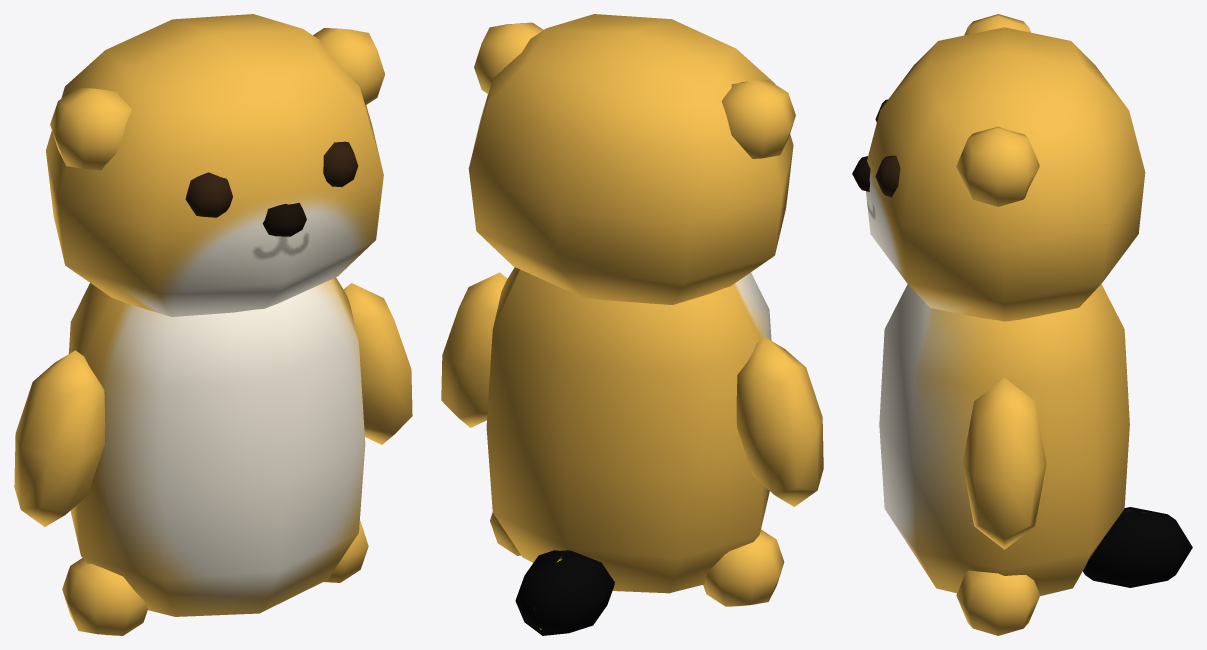
Rendered from character.glb.
3 views of the same model, side by side, from view 1: azimuth 30°, elevation 25°; view 2: azimuth 150°, elevation 25°; view 3: azimuth 270°, elevation 25° (orthographic). The views are drawn at different scales.
Parts seen in each view (by area): view 1: body, head, left-arm, right-arm, left-ear, left-leg, right-ear, left-eye, right-eye, nose, right-leg; view 2: body, head, left-arm, tail, right-arm, left-ear, left-leg, right-ear; view 3: head, body, right-arm, tail, right-ear, right-leg, left-ear, right-eye.
Part boxes in pixels (<box>): body: <box>68,277,365,616</box>; head: <box>46,14,383,316</box>; left-arm: <box>14,350,105,526</box>; right-arm: <box>343,283,412,444</box>; left-ear: <box>50,88,131,170</box>; left-leg: <box>62,558,147,635</box>; right-ear: <box>313,28,384,105</box>; left-eye: <box>185,172,232,217</box>; right-eye: <box>323,141,358,187</box>; nose: <box>262,202,306,236</box>; right-leg: <box>324,520,368,582</box>; body: <box>486,267,771,593</box>; head: <box>468,14,793,304</box>; left-arm: <box>736,337,823,506</box>; tail: <box>515,550,614,635</box>; right-arm: <box>441,272,507,427</box>; left-ear: <box>721,80,795,158</box>; left-leg: <box>703,529,784,606</box>; right-ear: <box>474,22,543,93</box>; head: <box>866,27,1145,321</box>; body: <box>879,284,1129,595</box>; right-arm: <box>962,378,1046,549</box>; tail: <box>1083,507,1192,587</box>; right-ear: <box>956,126,1039,206</box>; right-leg: <box>956,570,1040,635</box>; left-ear: <box>964,14,1030,35</box>; right-eye: <box>875,155,900,197</box>.
Bounding box in the file's own units: 8.3 × 11.75 × 6.81.
1 material, 1 textured.
